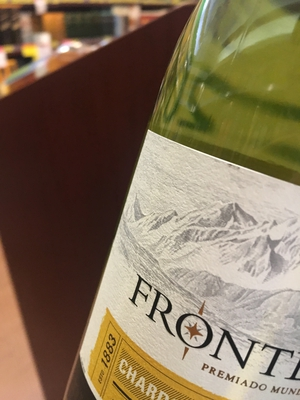frontera chardonnay: (59, 64, 297, 400)
